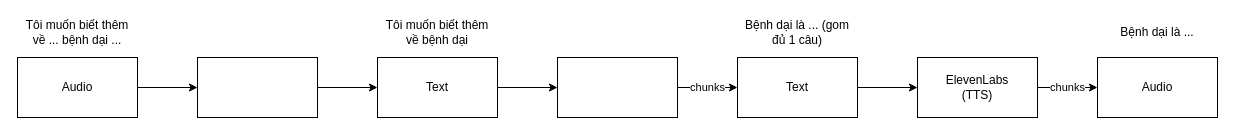
This 1235x135 diagram has some shape labels left out. The box of each missing label's shape, as (x1, y1, x2, y2) in pixels:
Deepgram (STT): (196, 56, 318, 118)
Groq (LLM): (556, 56, 678, 118)
